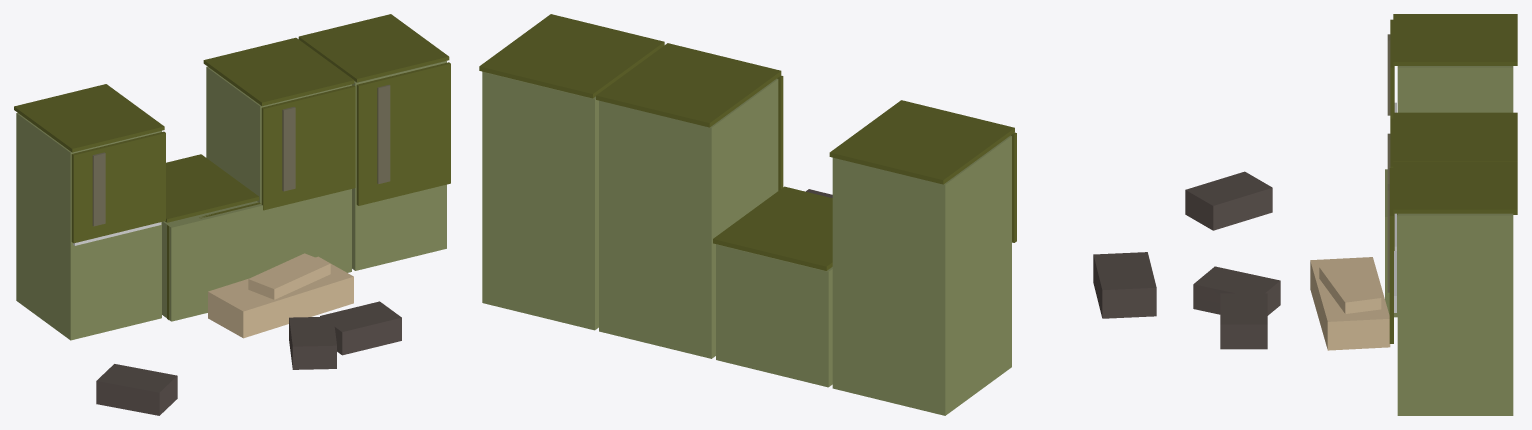
The model's file is SM_HescoCorto4_v4_Red_e1_Danado_LOD1.fbx.
3 renders of one model, left to right at view 1: azimuth 30°, elevation 25°; view 2: azimuth 150°, elevation 25°; view 3: azimuth 270°, elevation 25°, orthographic. The views are drawn at different scales.
Parts seen in each view (by area): view 1: SM_hesco_piezas_v117_LOD1; view 2: SM_hesco_piezas_v117_LOD1; view 3: SM_hesco_piezas_v117_LOD1.
Part boxes in pixels (<box>): SM_hesco_piezas_v117_LOD1: <box>14,14,450,415</box>; SM_hesco_piezas_v117_LOD1: <box>479,14,1156,415</box>; SM_hesco_piezas_v117_LOD1: <box>1185,14,1517,415</box>.
Bounding box in the file's own units: 4.95 × 2.16 × 3.16.
